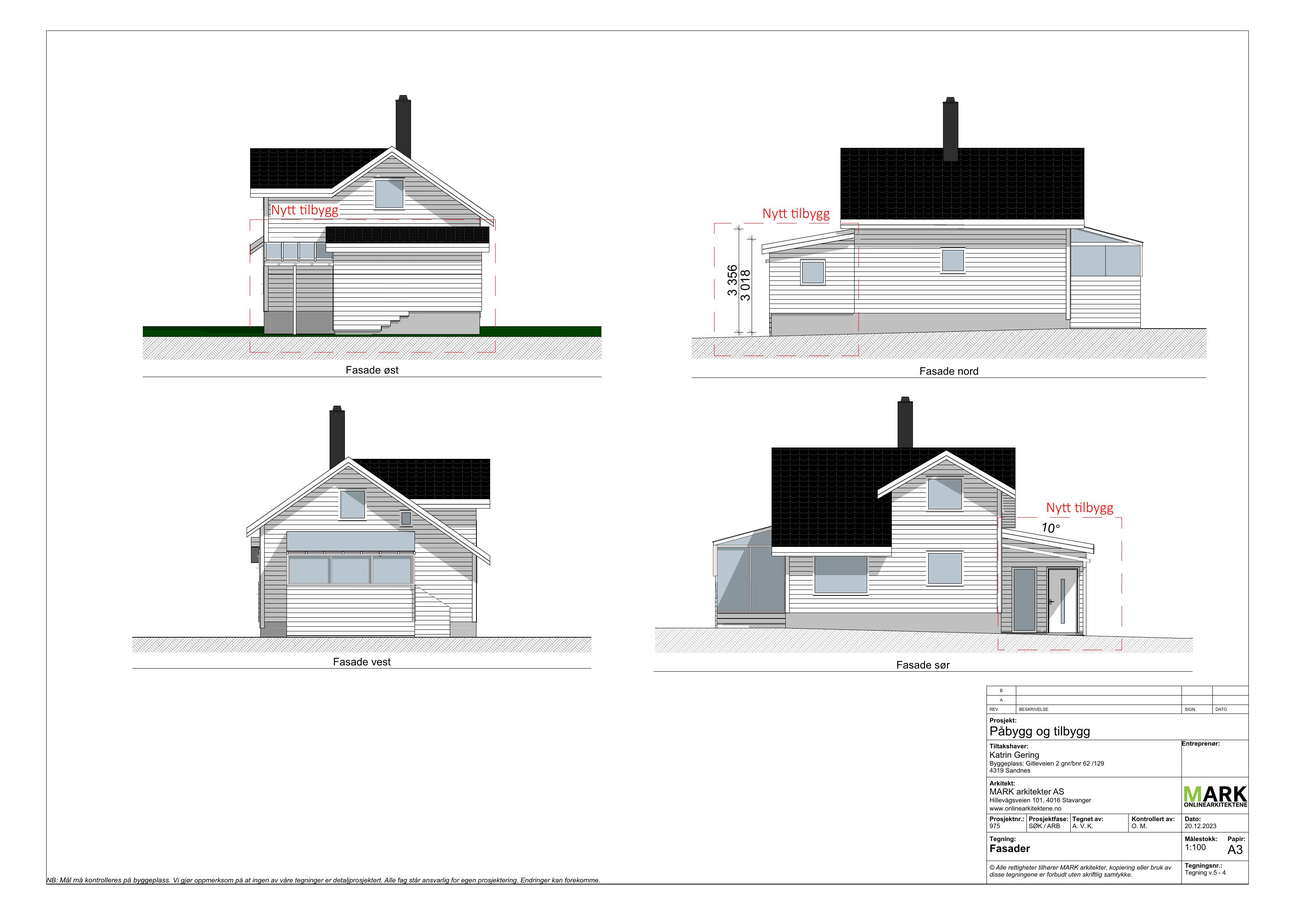fasade: (760, 96, 1146, 361), (711, 395, 1098, 656), (248, 94, 498, 363), (245, 403, 493, 655)
